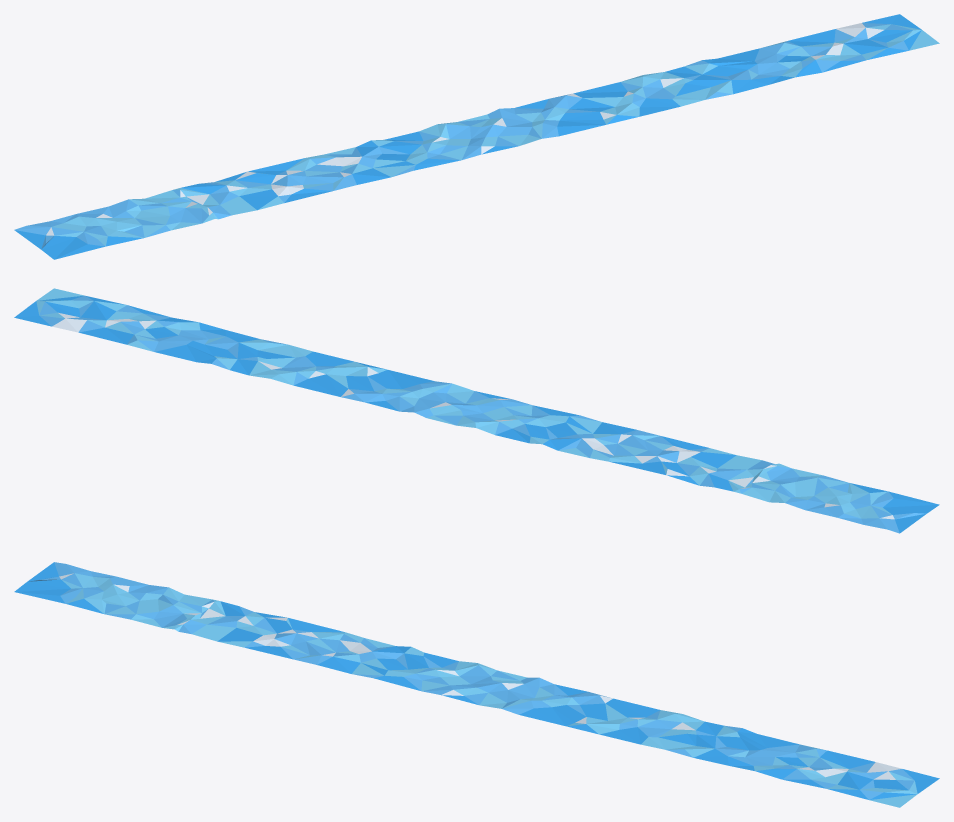
The model's file is Wotersurface.obj.
3 views of the same model, one above another, from view 1: azimuth 30°, elevation 25°; view 2: azimuth 150°, elevation 25°; view 3: azimuth 330°, elevation 25° (orthographic).
Parts seen in each view (by area): view 1: plane; view 2: plane; view 3: plane.
Boxes of the visible parts, x1=… form: plane: x1=14, y1=14, x2=939, y2=259; plane: x1=14, y1=288, x2=939, y2=533; plane: x1=14, y1=562, x2=939, y2=807.
Size of the model in its own units: 688 by 3.83 by 54.44.
1 material, 1 textured.
